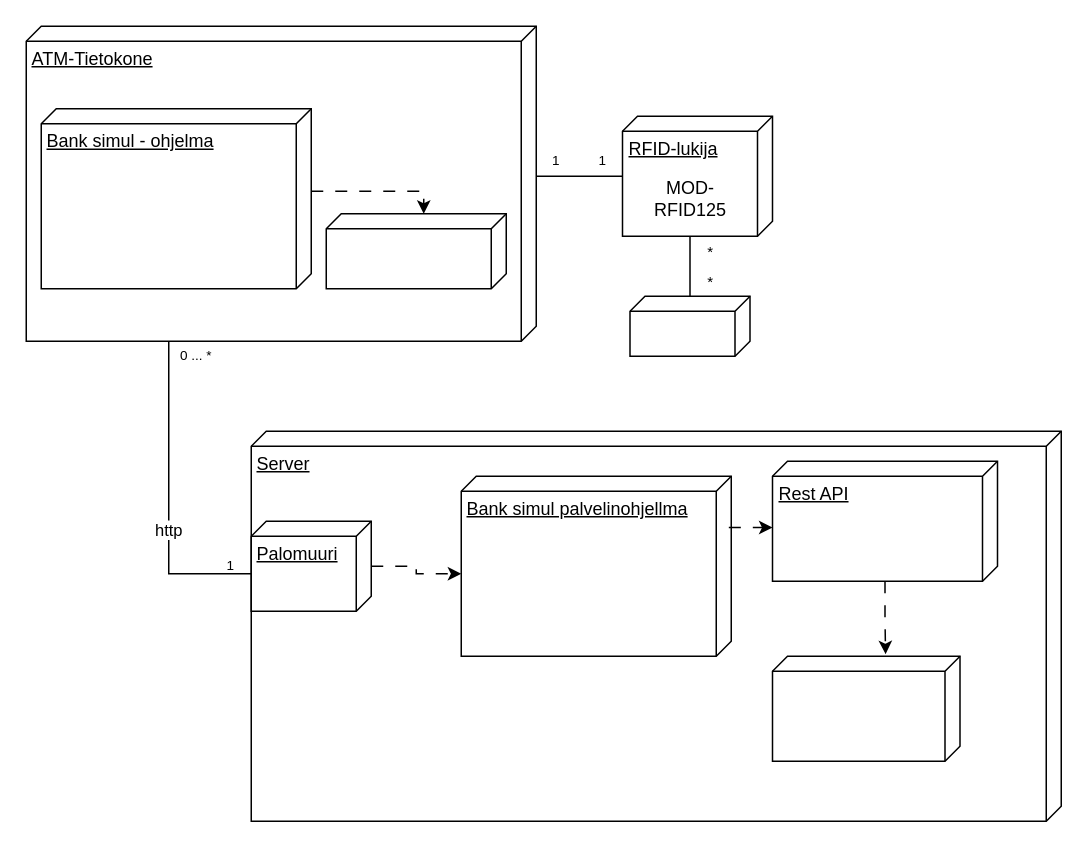
This 1088x848 diagram has some shape labels left out. The shapes that lost their labels are listed below. From the top down, each one's centre as x and y in pixels, then its label:
At point 415,250: "QT - Ympäristö".
At point 689,325: "RFID-kortti".
At point 865,708: "MariaDB".
